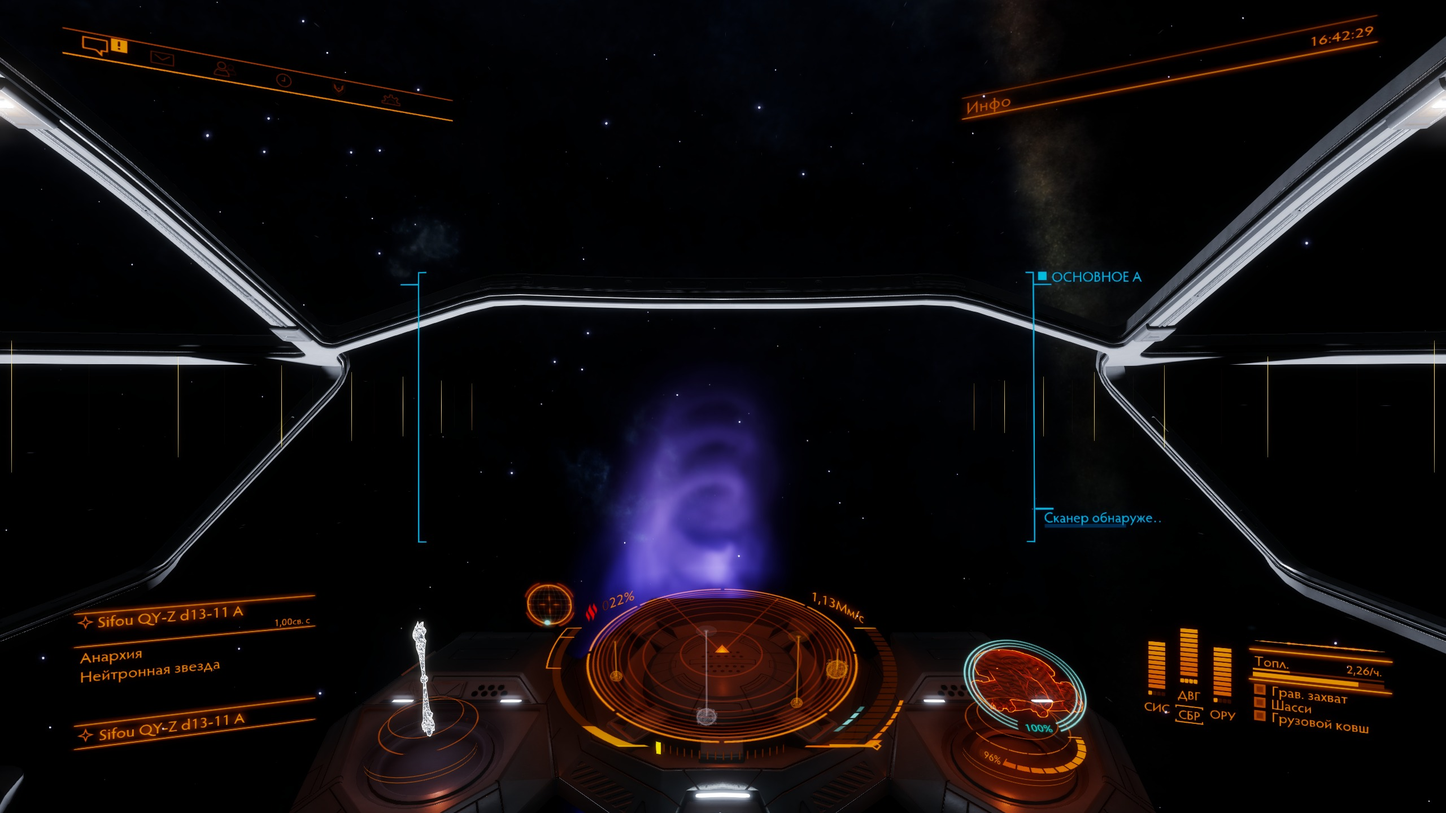core: (522, 402, 1108, 813)
jetcone: (1146, 119, 1404, 326), (629, 491, 743, 597)
